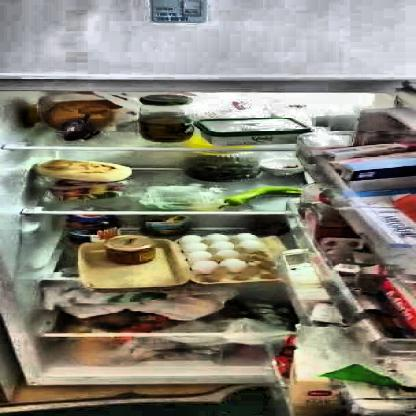cream_cheese: (198, 118, 302, 146)
green_chillies: (218, 187, 300, 207)
olives: (186, 156, 260, 180)
red_onion: (63, 119, 96, 139)
